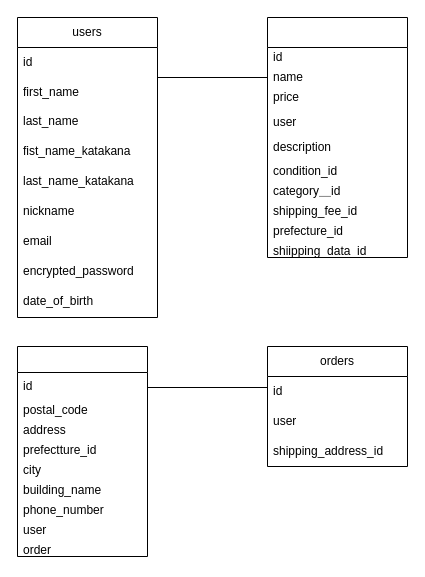
Image size: 425x577. Some labels were removed from this diagram. The box of each missing label's shape, as (x1, y1, x2, y2) in pixels:
Items: (266, 16, 408, 258)
shipping address: (16, 346, 148, 556)
